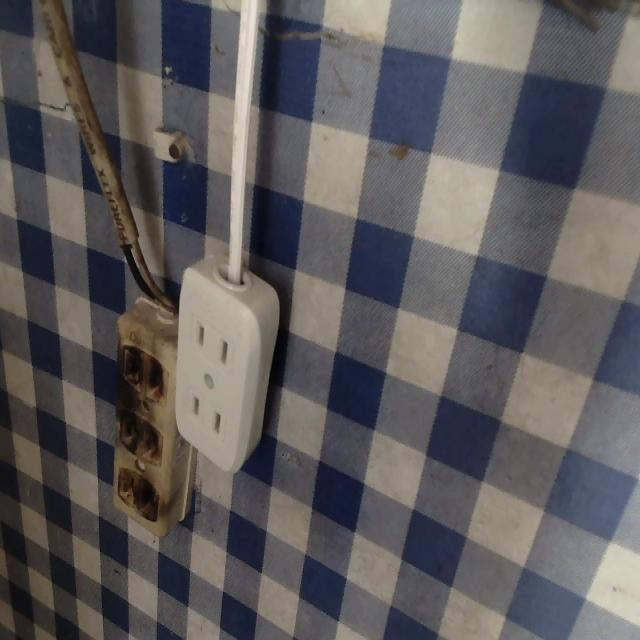-: (118, 335, 175, 405), (112, 405, 166, 467), (115, 467, 162, 533)
